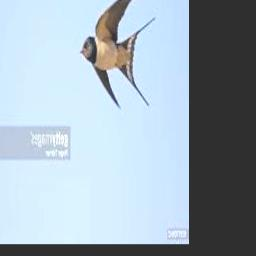Swallow: (80, 0, 156, 108)
